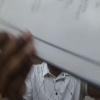notebook: (0, 0, 99, 95)
